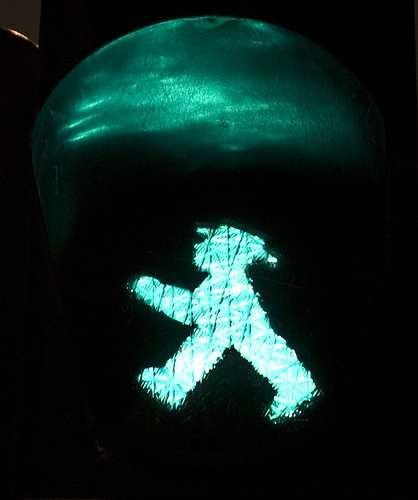green: (49, 65, 396, 469)
